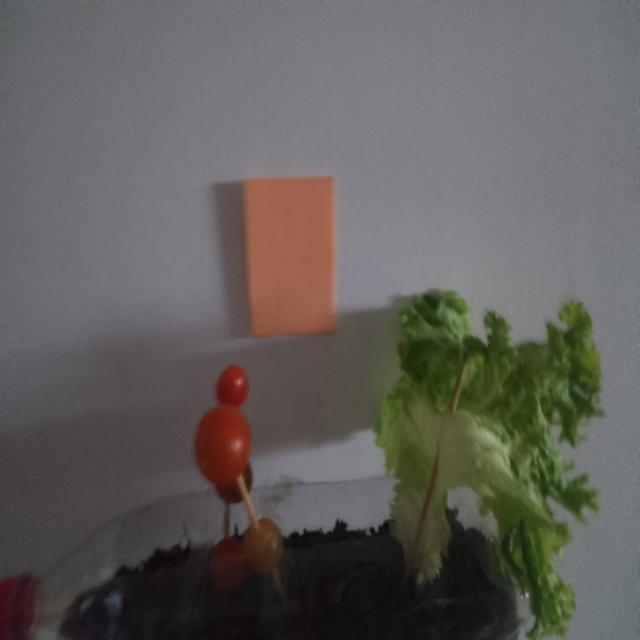card: (242, 177, 335, 335)
fruit_maturation: (243, 518, 283, 572)
fully_grown: (195, 365, 251, 483)
